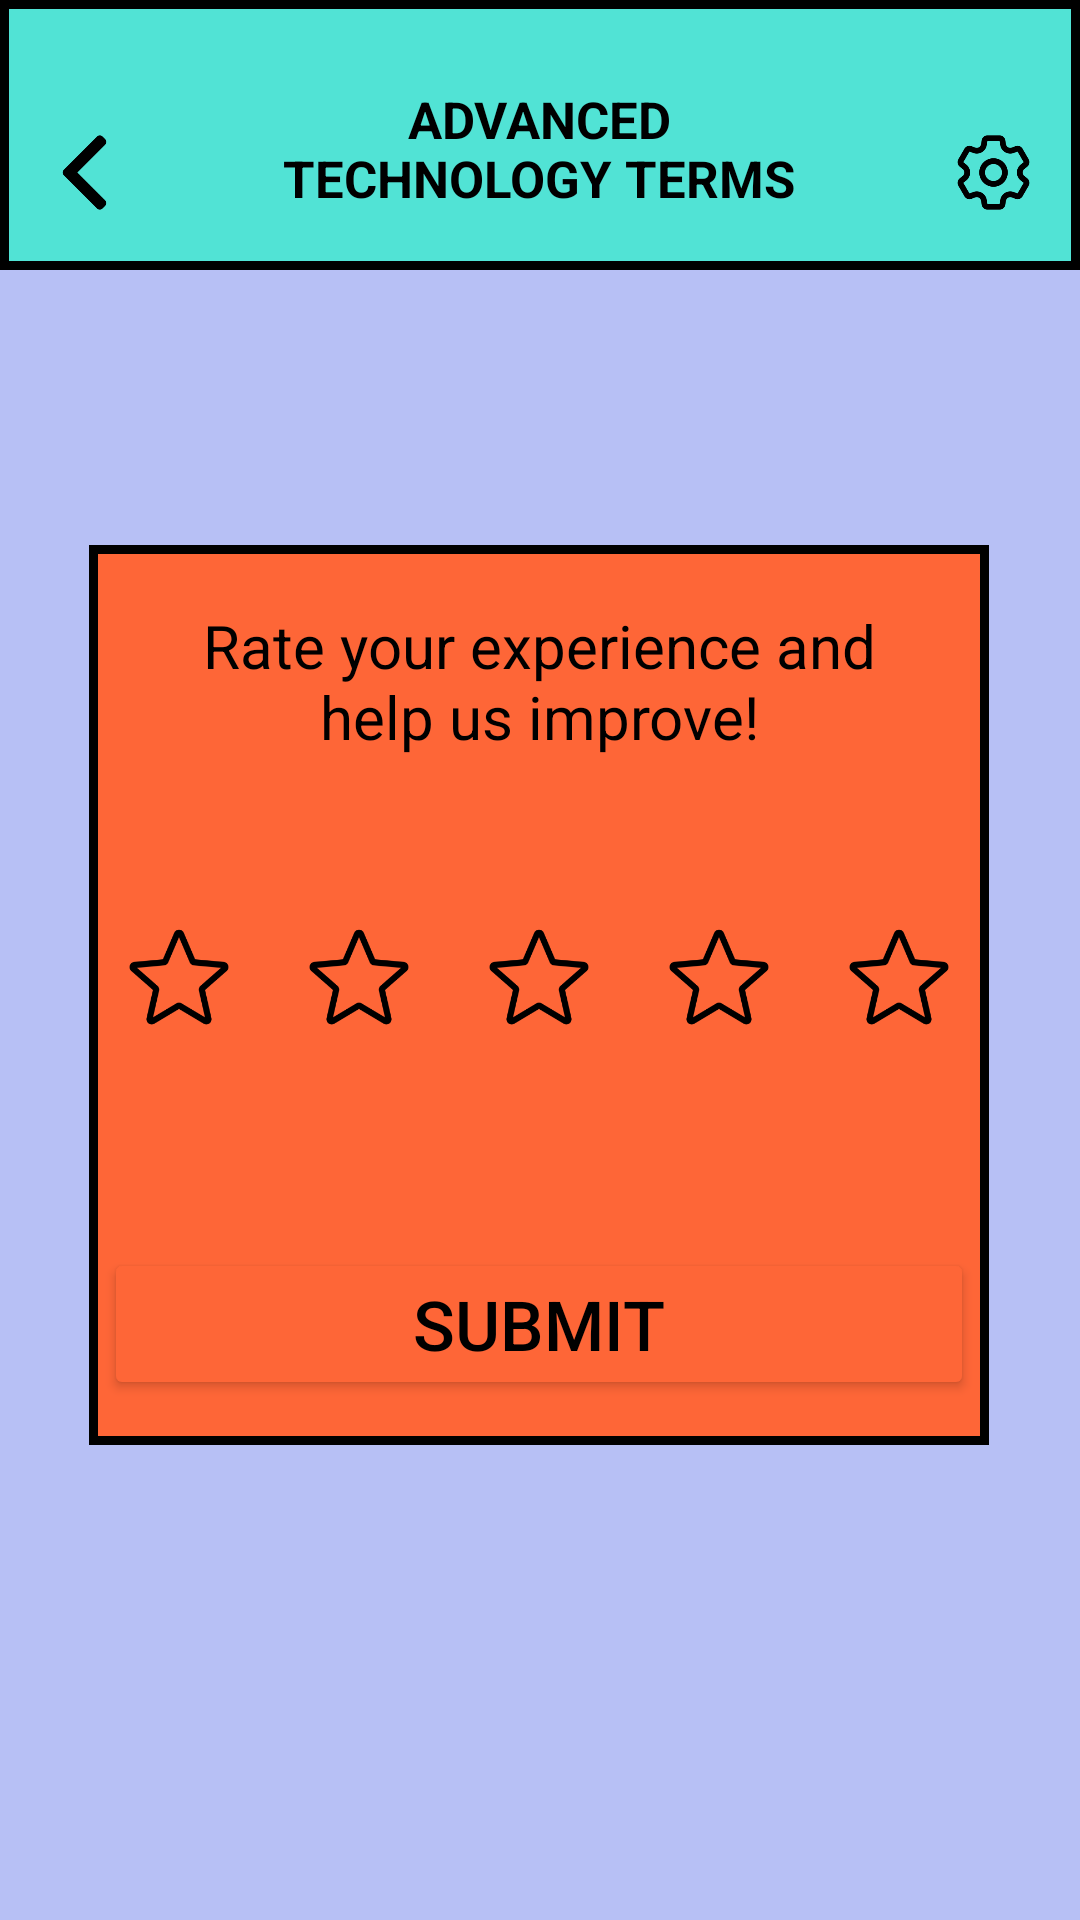

Icons on this 1080x1920 Android screen, each with the point to tap as (x=x, y=y):
back: (x=84, y=172)
settings: (x=993, y=172)
